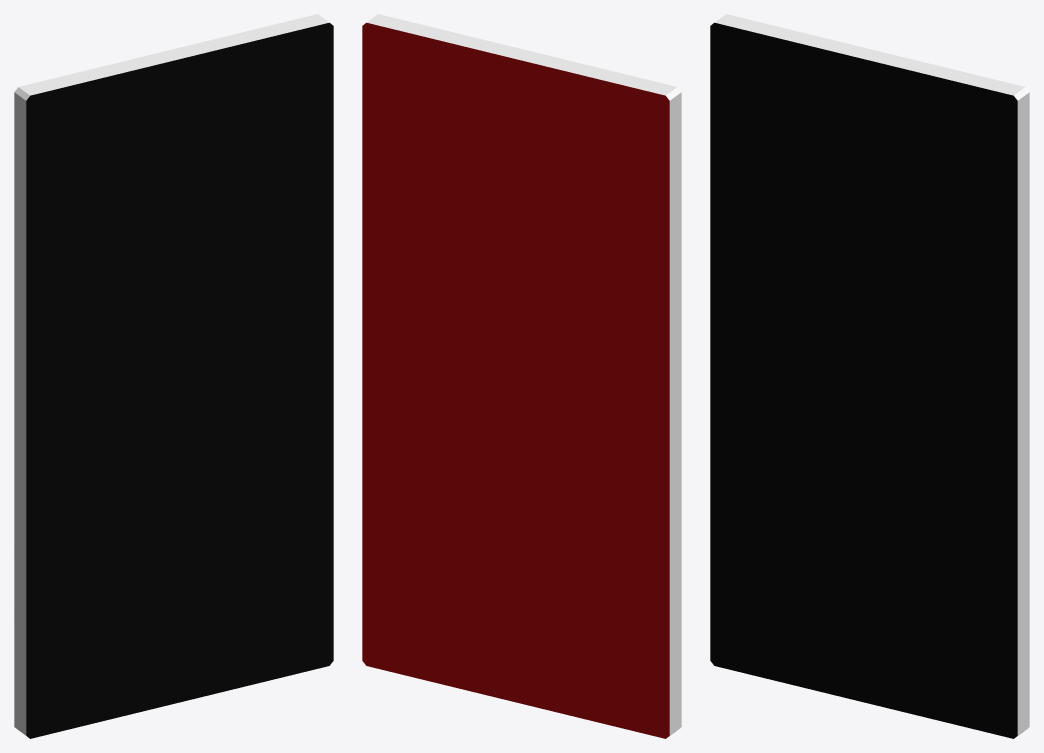
File: CartaRoja.FBX
3 renders of one model, left to right at view 1: azimuth 30°, elevation 25°; view 2: azimuth 150°, elevation 25°; view 3: azimuth 330°, elevation 25°, orthographic.
Visible parts, largest first — view 1: CartaRoja; view 2: CartaRoja; view 3: CartaRoja.
Part boxes in pixels (x1,y1,x2,y2): CartaRoja: (14,14,333,738); CartaRoja: (362,14,681,738); CartaRoja: (710,14,1029,738).
Size of the model in its own units: 30 by 60 by 2.
